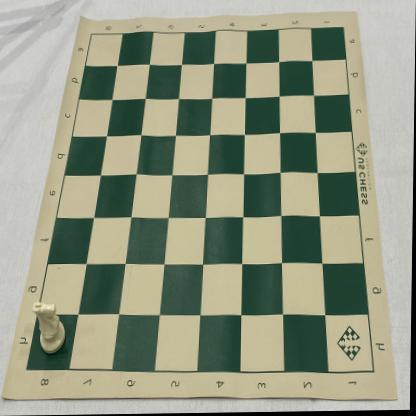white-knight: (33, 301, 67, 356)
